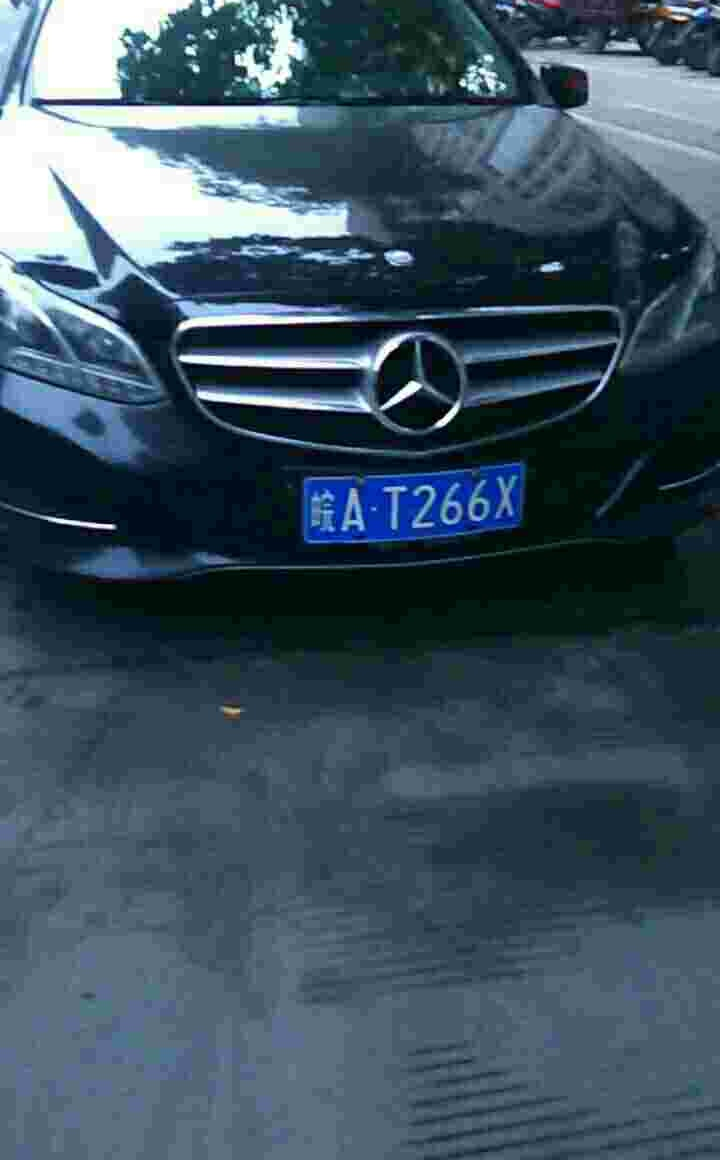plate: (307, 461, 532, 550)
